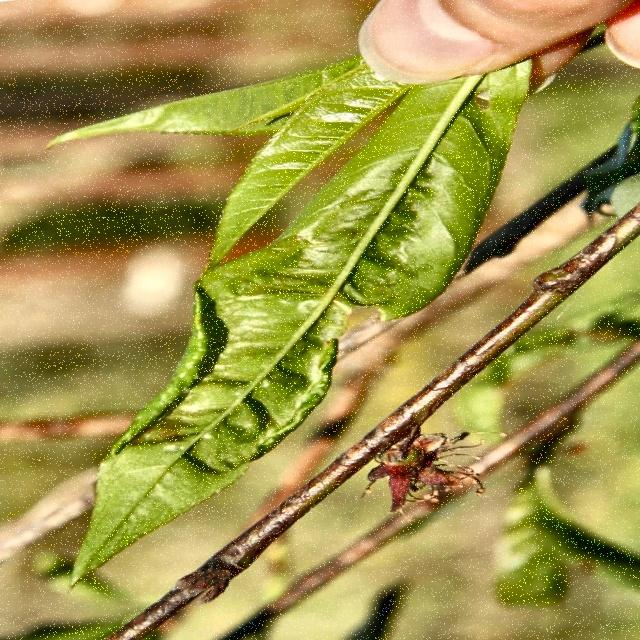leaf_curl: (64, 231, 335, 546)
